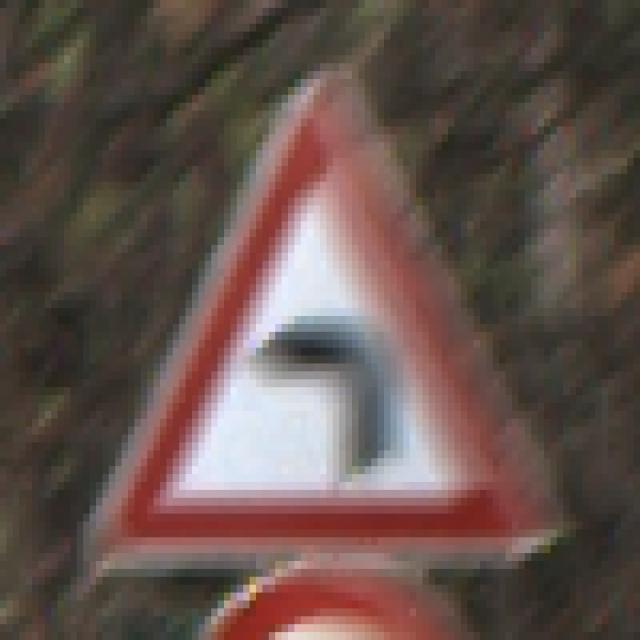left hand curve: (70, 49, 572, 585)
